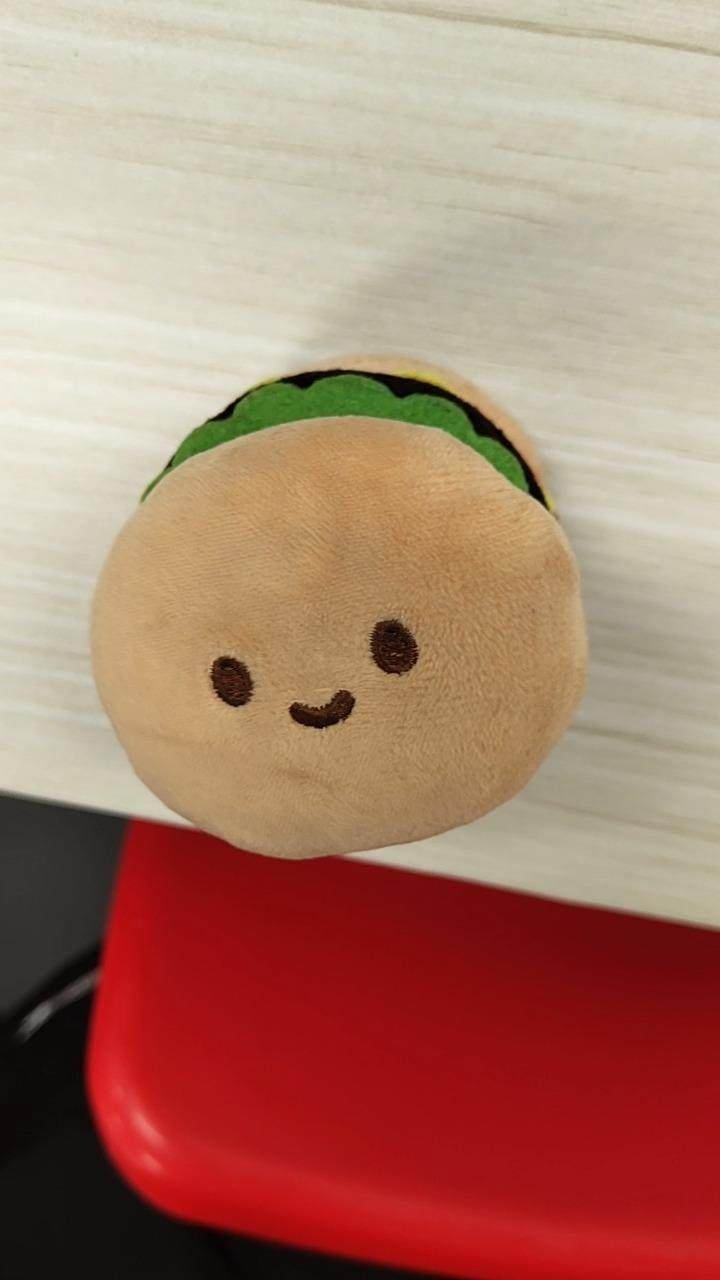hamburger: (87, 351, 589, 861)
